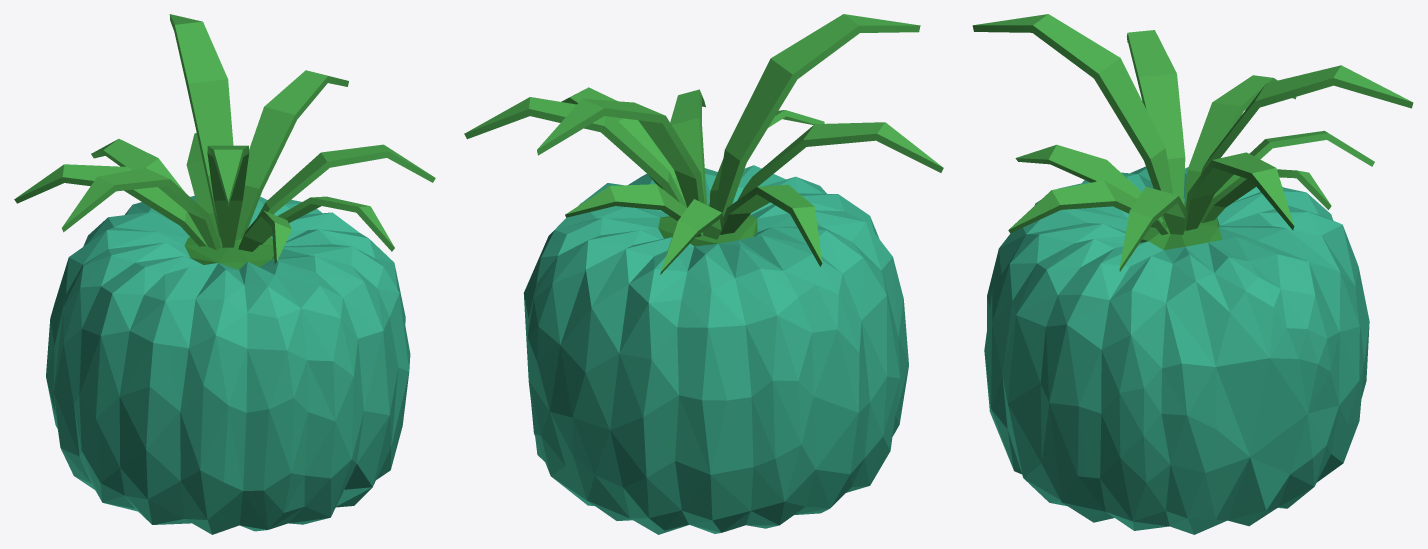
The model's file is fantasy_plant_058.fbx.
3 views of the same model, side by side, from view 1: azimuth 30°, elevation 25°; view 2: azimuth 150°, elevation 25°; view 3: azimuth 270°, elevation 25° (orthographic). The views are drawn at different scales.
Parts seen in each view (by area): view 1: fantasy_plant.058; view 2: fantasy_plant.058; view 3: fantasy_plant.058.
Boxes of the visible parts, x1=… form: fantasy_plant.058: x1=14, y1=14, x2=435, y2=534; fantasy_plant.058: x1=464, y1=14, x2=943, y2=534; fantasy_plant.058: x1=972, y1=14, x2=1413, y2=534.
Size of the model in its own units: 171 by 178 by 166.
Materials: 1 (1 with a texture image).
